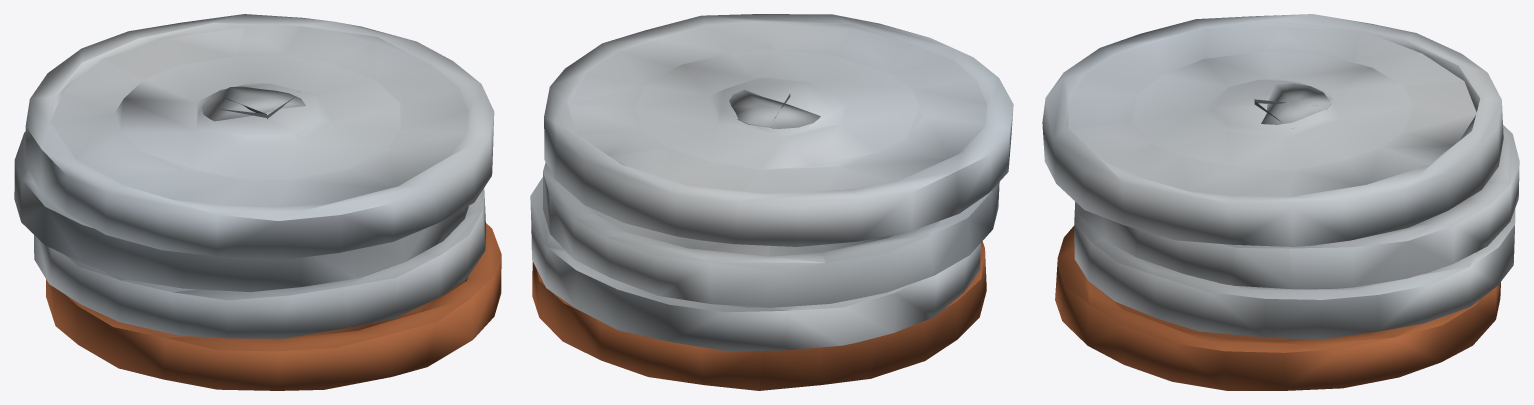
File: grotto_coin_pile_b_lod1.glb
3 views of the same model, side by side, from view 1: azimuth 30°, elevation 25°; view 2: azimuth 150°, elevation 25°; view 3: azimuth 270°, elevation 25° (orthographic). The views are drawn at different scales.
Visible parts, largest first — view 1: grotto_coin_pile_b.001; view 2: grotto_coin_pile_b.001; view 3: grotto_coin_pile_b.001.
Boxes of the visible parts, x1,y1,x2,y2 form: grotto_coin_pile_b.001: [14, 14, 501, 390]; grotto_coin_pile_b.001: [530, 14, 1013, 390]; grotto_coin_pile_b.001: [1042, 14, 1519, 390].
Size of the model in its own units: 5.9 by 2.68 by 5.97.
